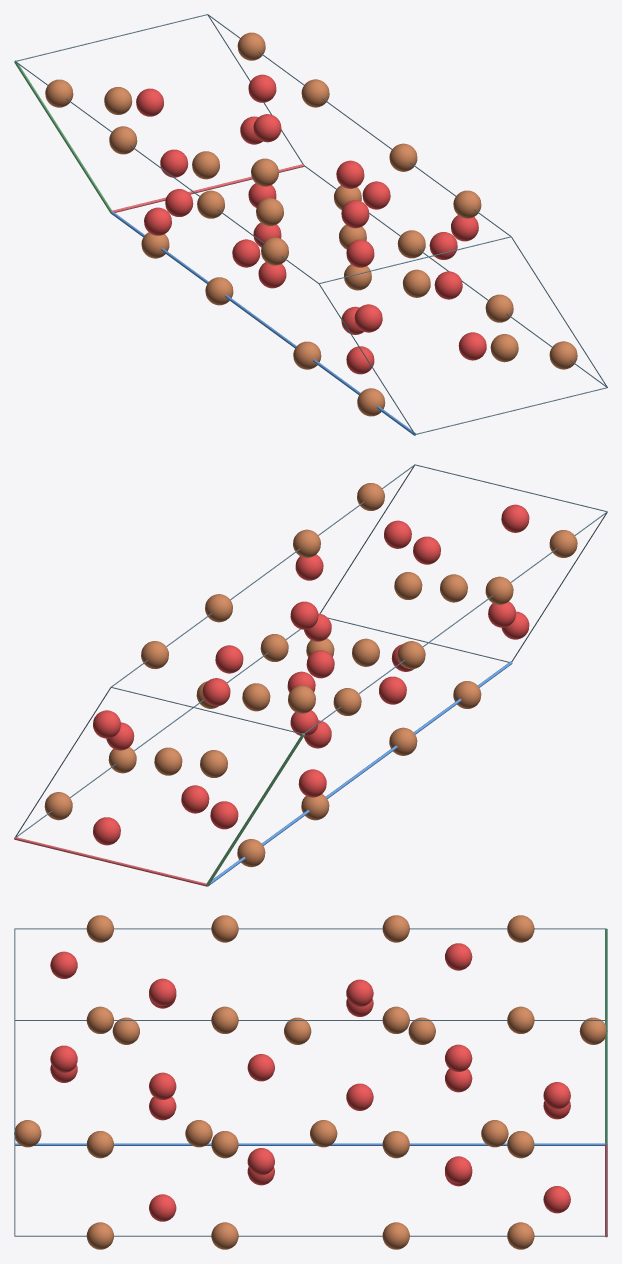
Rendered from hematite.glb.
The picture shows the model from 3 angles, top to bottom: view 1: azimuth 30°, elevation 25°; view 2: azimuth 150°, elevation 25°; view 3: azimuth 270°, elevation 25°; orthographic projection. The views are drawn at different scales.
Parts seen in each view (by area): view 1: Fe · Fe · 1 (×22), O · O · 1 (×18), Ô mạng và các trục a, b, c; view 2: Fe · Fe · 1 (×22), O · O · 1 (×16), Ô mạng và các trục a, b, c; view 3: Fe · Fe · 1 (×24), O · O · 1 (×16), Ô mạng và các trục a, b, c.
Part boxes in pixels (x1,y1,x2,y2): Fe · Fe · 1 (×22): (45,32,577,416); O · O · 1 (×18): (136,74,486,374); Ô mạng và các trục a, b, c: (14,14,607,435); Fe · Fe · 1 (×22): (44,483,577,867); O · O · 1 (×16): (93,504,529,845); Ô mạng và các trục a, b, c: (14,464,607,886); Fe · Fe · 1 (×24): (14,915,607,1249); O · O · 1 (×16): (50,943,570,1221); Ô mạng và các trục a, b, c: (14,928,607,1237).
Size of the model in its own units: 8.2 by 5 by 13.82.
